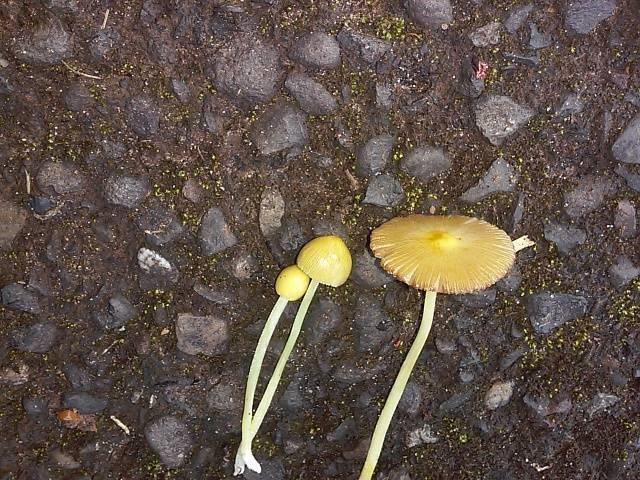edible_mushroom: (357, 212, 517, 478), (231, 233, 352, 476)
